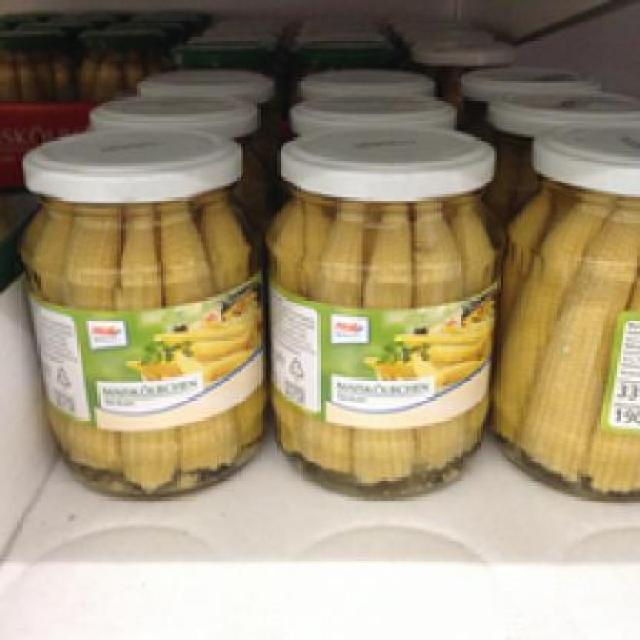Corn: (8, 120, 266, 500), (263, 120, 506, 500), (494, 117, 637, 494)
